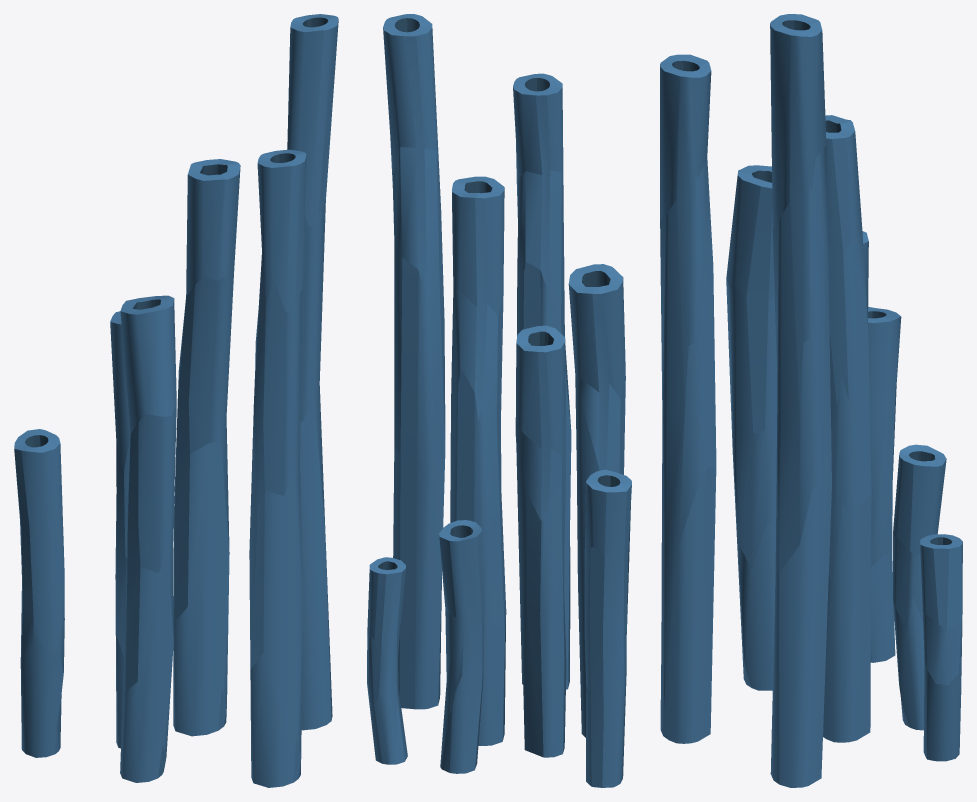
File: coral_tube_set_C_solos.fbx
3 views of the same model, side by side, from view 1: azimuth 30°, elevation 25°; view 2: azimuth 150°, elevation 25°; view 3: azimuth 270°, elevation 25° (orthographic). The views are drawn at different scales.
Parts seen in each view (by area): view 1: coral_tube_C_solo_B, coral_tube_C_solo_C, coral_tube_C_solo_D, coral_tube_C_solo_A, coral_tube_C_solo_F, coral_tube_C_solo_E; view 2: coral_tube_C_solo_A, coral_tube_C_solo_C, coral_tube_C_solo_E, coral_tube_C_solo_B, coral_tube_C_solo_F, coral_tube_C_solo_D, coral_tube_C_solo_G, coral_tube_C_solo_H; view 3: coral_tube_C_solo_A, coral_tube_C_solo_B, coral_tube_C_solo_C, coral_tube_C_solo_D, coral_tube_C_solo_G, coral_tube_C_solo_F, coral_tube_C_solo_H.
Part boxes in pixels (left/top/right/bottom): coral_tube_C_solo_B: left=249, top=149, right=306, bottom=787; coral_tube_C_solo_C: left=173, top=159, right=240, bottom=736; coral_tube_C_solo_D: left=120, top=295, right=176, bottom=782; coral_tube_C_solo_A: left=287, top=14, right=338, bottom=730; coral_tube_C_solo_F: left=14, top=429, right=64, bottom=757; coral_tube_C_solo_E: left=110, top=311, right=130, bottom=748; coral_tube_C_solo_A: left=383, top=14, right=445, bottom=709; coral_tube_C_solo_C: left=450, top=176, right=506, bottom=745; coral_tube_C_solo_E: left=515, top=325, right=566, bottom=757; coral_tube_C_solo_B: left=513, top=73, right=571, bottom=689; coral_tube_C_solo_F: left=584, top=469, right=631, bottom=787; coral_tube_C_solo_D: left=568, top=264, right=625, bottom=737; coral_tube_C_solo_G: left=439, top=520, right=484, bottom=773; coral_tube_C_solo_H: left=367, top=557, right=407, bottom=764; coral_tube_C_solo_A: left=770, top=14, right=831, bottom=787; coral_tube_C_solo_B: left=660, top=54, right=716, bottom=743; coral_tube_C_solo_C: left=823, top=115, right=871, bottom=742; coral_tube_C_solo_D: left=726, top=165, right=777, bottom=690; coral_tube_C_solo_G: left=893, top=444, right=946, bottom=730; coral_tube_C_solo_F: left=868, top=307, right=901, bottom=662; coral_tube_C_solo_H: left=920, top=534, right=962, bottom=761.
Size of the model in its own units: 52.55 by 123 by 44.5.
